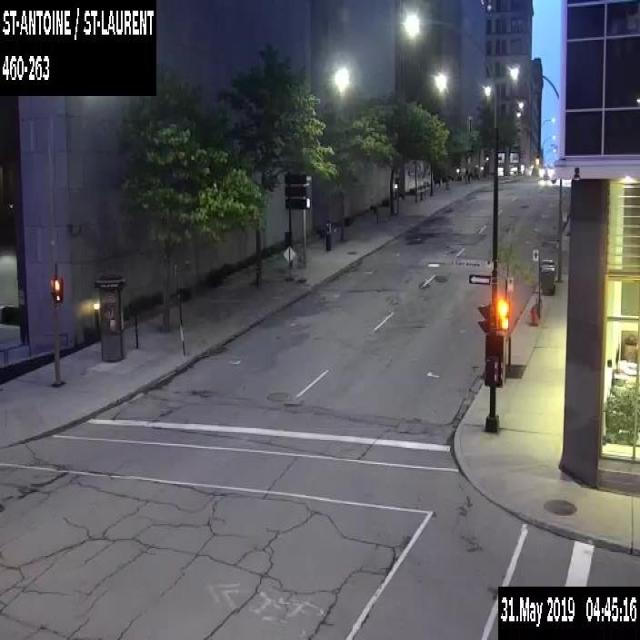vehicle: (538, 164, 554, 178)
